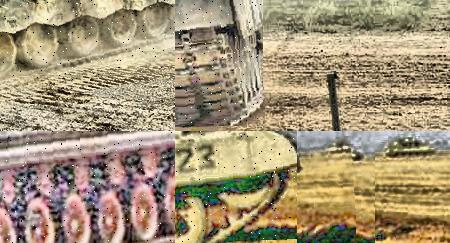tanks: (1, 132, 176, 243), (1, 1, 176, 79), (176, 132, 298, 243), (176, 1, 264, 124)
